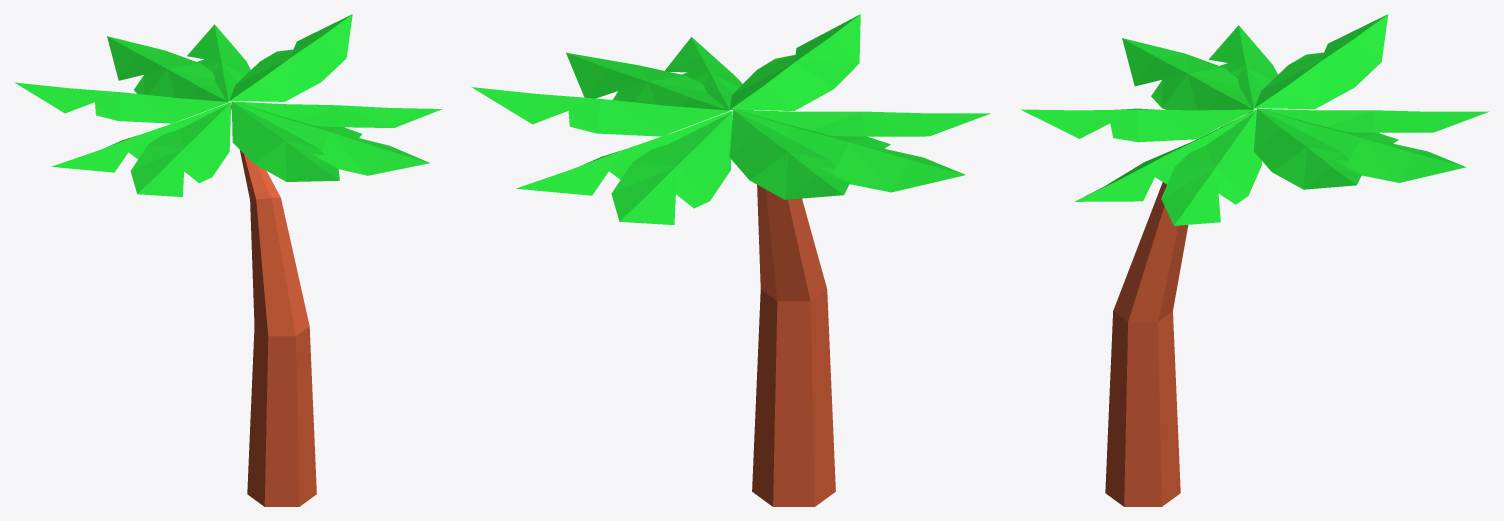
Rendered from tree.glb.
3 renders of one model, left to right at view 1: azimuth 30°, elevation 25°; view 2: azimuth 150°, elevation 25°; view 3: azimuth 270°, elevation 25°, orthographic. The views are drawn at different scales.
Parts seen in each view (by area): view 1: Circle; view 2: Circle; view 3: Circle.
Part boxes in pixels (x1,y1,x2,y2): Circle: (14,14,442,506); Circle: (471,14,990,506); Circle: (1021,14,1488,506).
Bounding box in the file's own units: 3.61 × 3.49 × 3.74.
